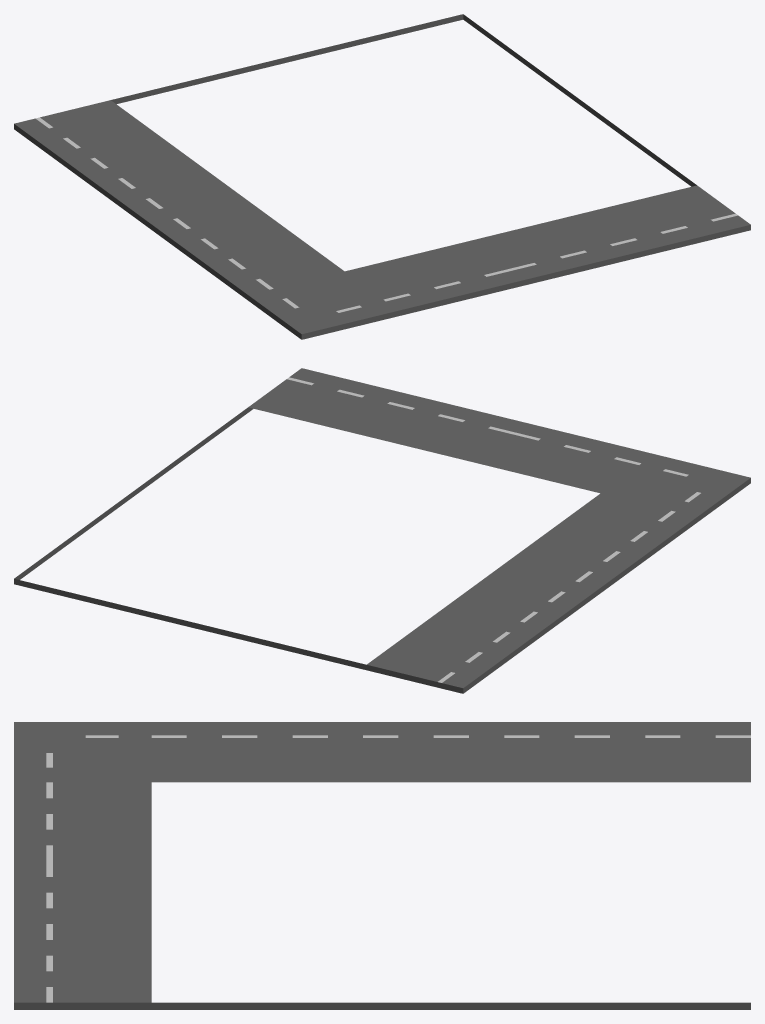
Rendered from road.fbx.
3 renders of one model, top to bottom at view 1: azimuth 30°, elevation 25°; view 2: azimuth 150°, elevation 25°; view 3: azimuth 270°, elevation 25°, orthographic. The views are drawn at different scales.
Parts seen in each view (by area): view 1: Plane.004; view 2: Plane.004; view 3: Plane.004.
Part boxes in pixels (box(x1,y1,x2,y2)): Plane.004: box(14, 14, 750, 339); Plane.004: box(14, 368, 750, 693); Plane.004: box(14, 722, 750, 1009).
Bounding box in the file's own units: 150 × 1.78 × 166.
1 material, 1 textured.
